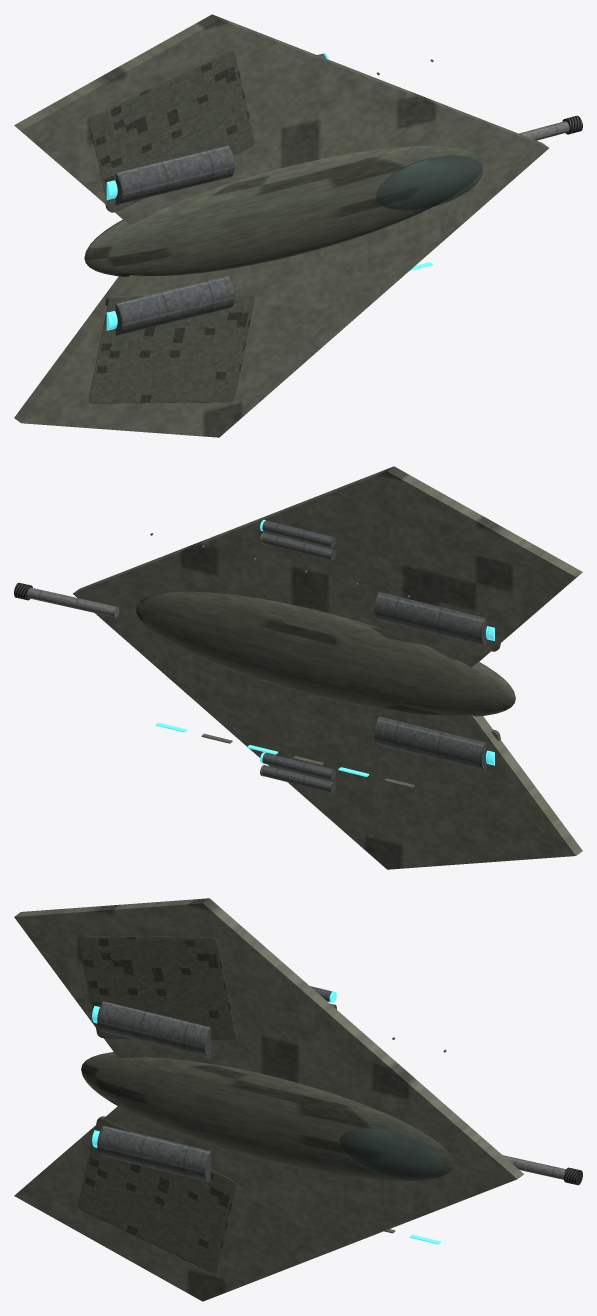
File: v-x06-vanguard-reserveStrike-lod0.glb
3 views of the same model, one above another, from view 1: azimuth 30°, elevation 25°; view 2: azimuth 150°, elevation 25°; view 3: azimuth 330°, elevation 25° (orthographic). The views are drawn at different scales.
Parts seen in each view (by area): view 1: flying_wing_planform, flying_wing_core, flying_wing_elevon_1, flying_wing_elevon_-1, flying_wing_canopy, flying_wing_engine_0, flying_wing_engine_1; view 2: flying_wing_planform, flying_wing_core, flying_wing_engine_1, flying_wing_engine_0, flying_wing_gun_barrel_0, flying_wing_1_tube_1, flying_wing_1_tube_2, flying_wing_-1_tube_1, flying_wing_-1_tube_2; view 3: flying_wing_planform, flying_wing_core, flying_wing_elevon_1, flying_wing_elevon_-1, flying_wing_canopy, flying_wing_engine_0, flying_wing_engine_1, flying_wing_gun_barrel_0.
Part boxes in pixels (x1,y1,x2,y2): flying_wing_planform: (14, 14, 548, 437); flying_wing_core: (84, 146, 483, 276); flying_wing_elevon_1: (89, 50, 254, 212); flying_wing_elevon_-1: (89, 294, 254, 403); flying_wing_canopy: (376, 155, 482, 210); flying_wing_engine_0: (115, 275, 234, 335); flying_wing_engine_1: (115, 145, 234, 204); flying_wing_planform: (73, 466, 582, 869); flying_wing_core: (136, 591, 515, 716); flying_wing_engine_1: (374, 592, 486, 646); flying_wing_engine_0: (374, 716, 486, 770); flying_wing_gun_barrel_0: (27, 587, 119, 617); flying_wing_1_tube_1: (262, 533, 336, 560); flying_wing_1_tube_2: (262, 520, 336, 547); flying_wing_-1_tube_1: (262, 765, 336, 792); flying_wing_-1_tube_2: (262, 753, 336, 780); flying_wing_planform: (14, 898, 523, 1301); flying_wing_core: (81, 1052, 454, 1181); flying_wing_elevon_1: (78, 936, 236, 1039); flying_wing_elevon_-1: (78, 1116, 236, 1272); flying_wing_canopy: (339, 1127, 442, 1180); flying_wing_engine_0: (97, 1125, 211, 1182); flying_wing_engine_1: (97, 1001, 211, 1057); flying_wing_gun_barrel_0: (503, 1155, 565, 1179).
Size of what is drawn, in the model's own units: 15.59 by 10.82 by 1.62.
7 materials, 7 textured.
